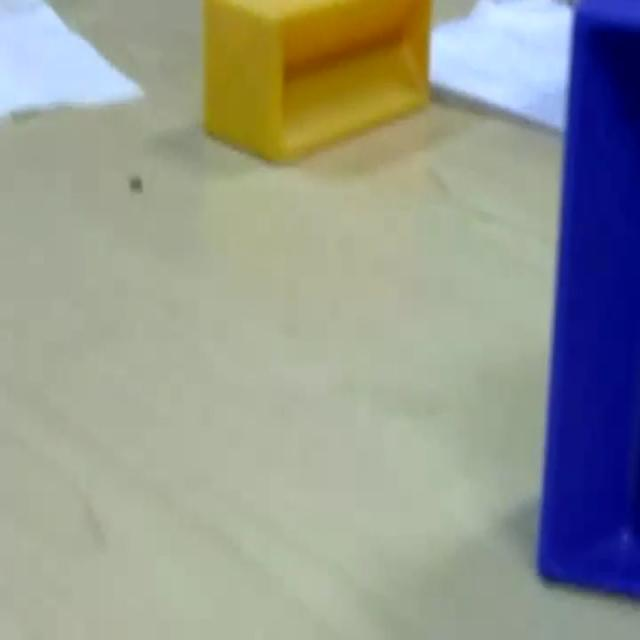blue_block: (534, 0, 638, 597)
yellow_block: (201, 0, 432, 164)
